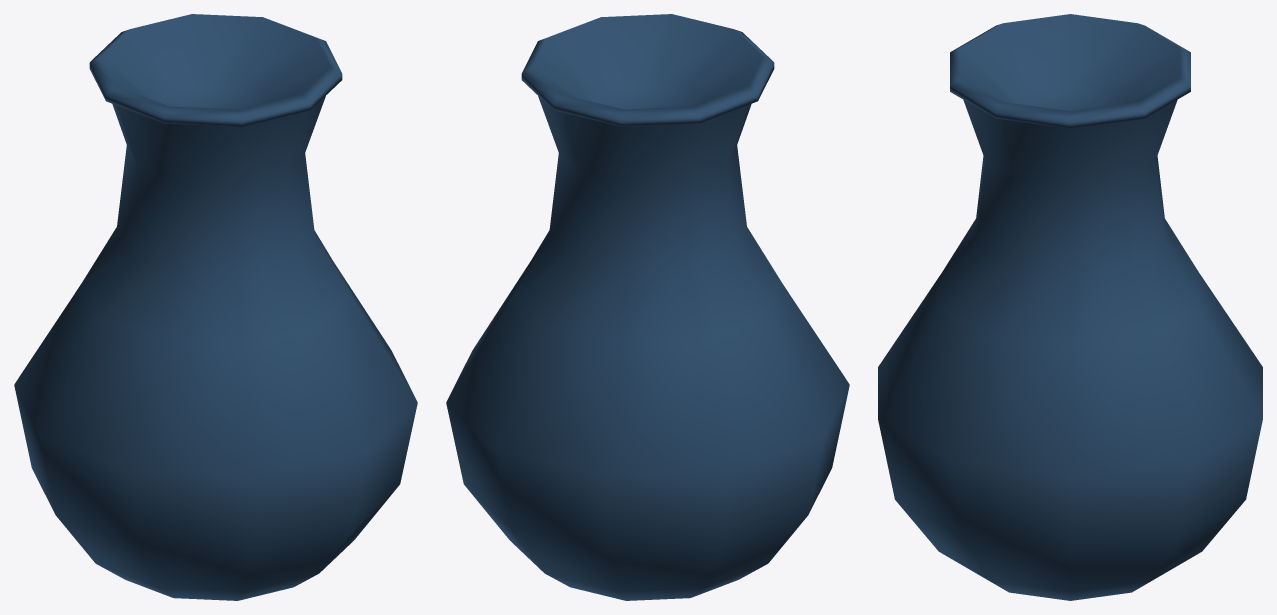
Rendered from Vase_2.fbx.
The picture shows the model from 3 angles, left to right: view 1: azimuth 30°, elevation 25°; view 2: azimuth 150°, elevation 25°; view 3: azimuth 270°, elevation 25°; orthographic projection.
Parts seen in each view (by area): view 1: Vase1; view 2: Vase1; view 3: Vase1.
Part boxes in pixels (left/top/right/bottom): Vase1: left=14, top=14, right=417, bottom=600; Vase1: left=446, top=14, right=849, bottom=600; Vase1: left=878, top=14, right=1262, bottom=600.
Bounding box in the file's own units: 4.21 × 5.67 × 4.
